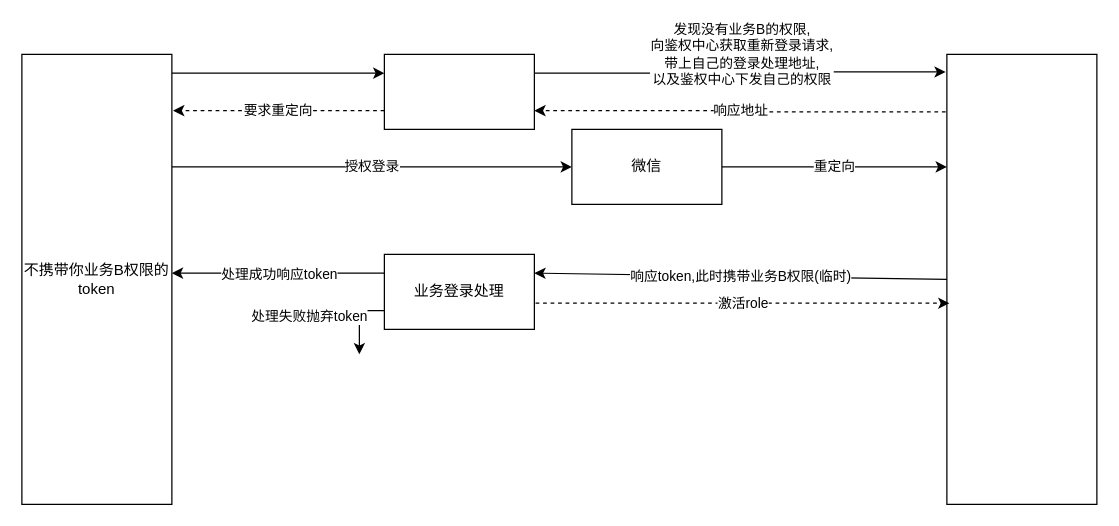
This 1119x526 diagram has some shape labels left out. Here are the shapes that lost their labels. From the top down, the centre of each, then its label:
At [458,91]: "请求业务B的业务接口".
At [1021,278]: "鉴权 中心".
